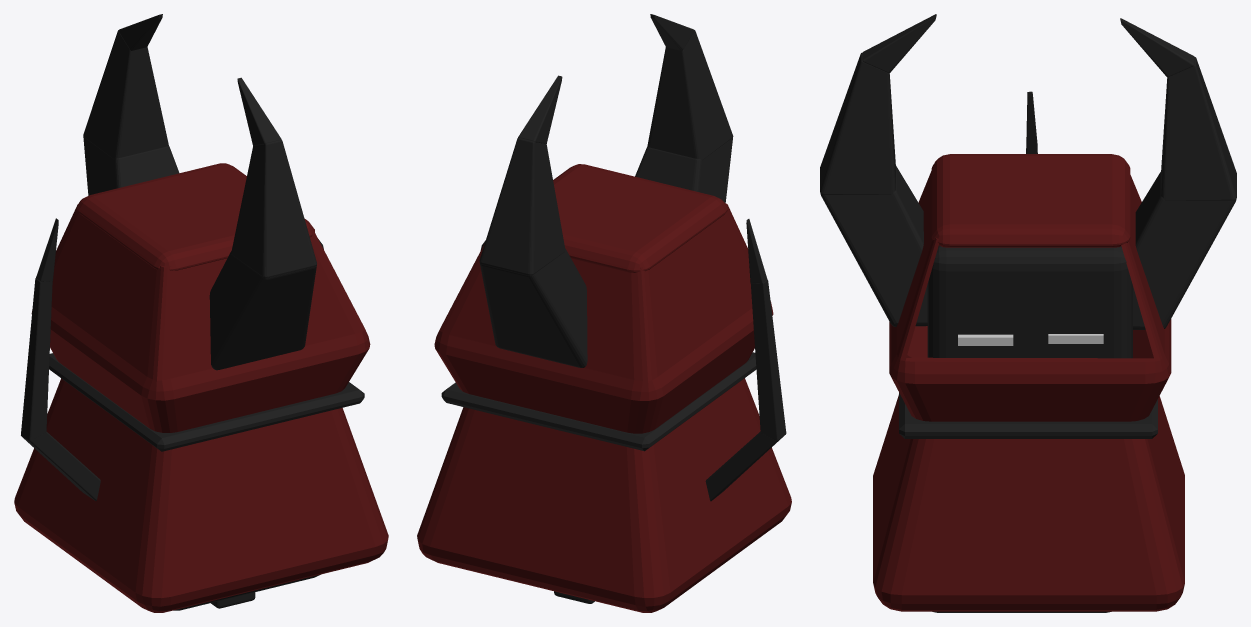
3 views of the same model, side by side, from view 1: azimuth 30°, elevation 25°; view 2: azimuth 150°, elevation 25°; view 3: azimuth 270°, elevation 25° (orthographic). The views are drawn at different scales.
Parts seen in each view (by area): view 1: Cube.081, Cube.094, Cube.095, Cube.085, Cube.096; view 2: Cube.081, Cube.095, Cube.094, Cube.085, Cube.096; view 3: Cube.081, glova, Cube.094, Cube.095, Cube.096, Cube.090, Cube.085, Cube.088.
Part boxes in pixels (left/top/right/bottom): Cube.081: left=14, top=163, right=388, bottom=612; Cube.094: left=209, top=77, right=316, bottom=370; Cube.095: left=83, top=14, right=179, bottom=195; Cube.085: left=21, top=218, right=100, bottom=500; Cube.096: left=49, top=353, right=364, bottom=451; Cube.081: left=417, top=164, right=791, bottom=612; Cube.095: left=479, top=75, right=587, bottom=367; Cube.094: left=635, top=14, right=733, bottom=202; Cube.085: left=705, top=219, right=786, bottom=501; Cube.096: left=441, top=352, right=756, bottom=451; Cube.081: left=873, top=154, right=1184, bottom=611; glova: left=927, top=245, right=1132, bottom=358; Cube.094: left=820, top=14, right=936, bottom=326; Cube.095: left=1120, top=18, right=1236, bottom=329; Cube.096: left=899, top=392, right=1157, bottom=438; Cube.090: left=958, top=334, right=1013, bottom=345; Cube.085: left=1026, top=91, right=1037, bottom=153; Cube.088: left=1048, top=334, right=1103, bottom=343.
Size of the model in its own units: 150 by 254 by 165.
